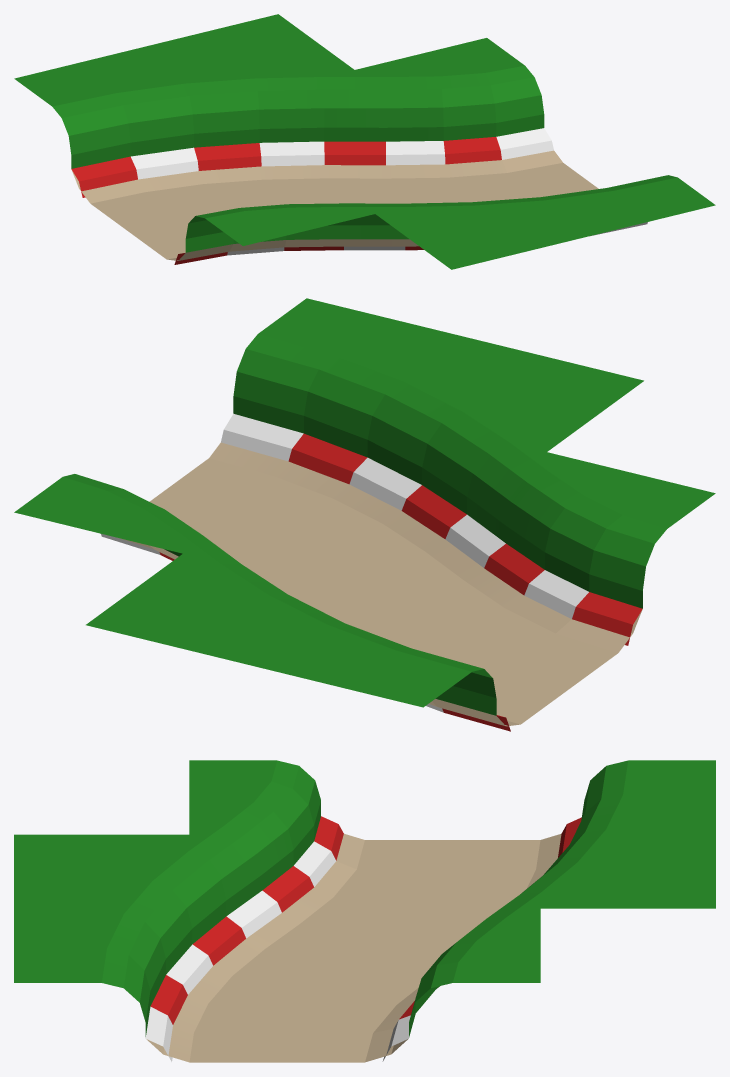
The model's file is Track_Striped_Esse_Single.obj.
The picture shows the model from 3 angles, top to bottom: view 1: azimuth 30°, elevation 25°; view 2: azimuth 150°, elevation 25°; view 3: azimuth 270°, elevation 25°; orthographic projection. The views are drawn at different scales.
Visible parts, largest first — view 1: Grass, Dirt, Raceline_Color_2, Raceline_Color_1; view 2: Grass, Dirt, Raceline_Color_1, Raceline_Color_2; view 3: Grass, Dirt, Raceline_Color_1, Raceline_Color_2.
Part boxes in pixels (<box>): Grass: <box>14,14,715,269</box>; Dirt: <box>72,150,598,260</box>; Raceline_Color_2: <box>71,137,501,264</box>; Raceline_Color_1: <box>131,128,647,255</box>; Grass: <box>14,298,715,715</box>; Dirt: <box>117,442,642,726</box>; Raceline_Color_1: <box>101,413,588,712</box>; Raceline_Color_2: <box>159,433,642,731</box>; Grass: <box>14,760,715,1037</box>; Dirt: <box>146,833,561,1062</box>; Raceline_Color_1: <box>145,841,439,1061</box>; Raceline_Color_2: <box>150,816,581,1024</box>.
Size of the model in its own units: 3 by 0.5 by 4.
